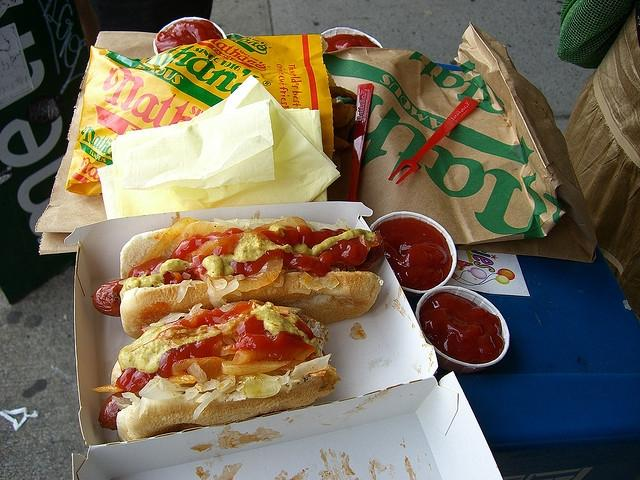onion: (134, 217, 200, 267), (204, 256, 283, 292), (138, 376, 192, 400), (288, 354, 332, 380), (221, 360, 292, 376), (192, 388, 222, 420), (200, 274, 227, 309), (243, 374, 282, 398), (252, 216, 308, 232), (187, 362, 208, 384), (176, 279, 194, 303), (226, 384, 247, 402), (203, 378, 219, 392), (184, 387, 200, 400), (212, 278, 227, 290), (121, 392, 135, 398)
